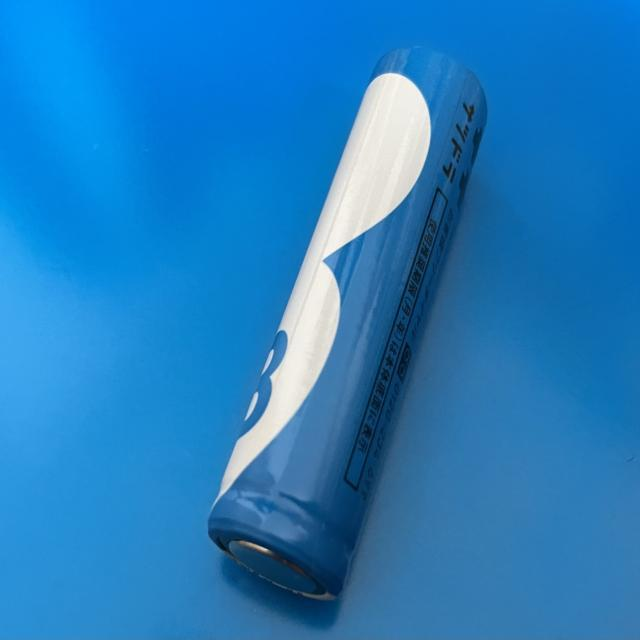hazardous waste: (203, 43, 488, 609)
